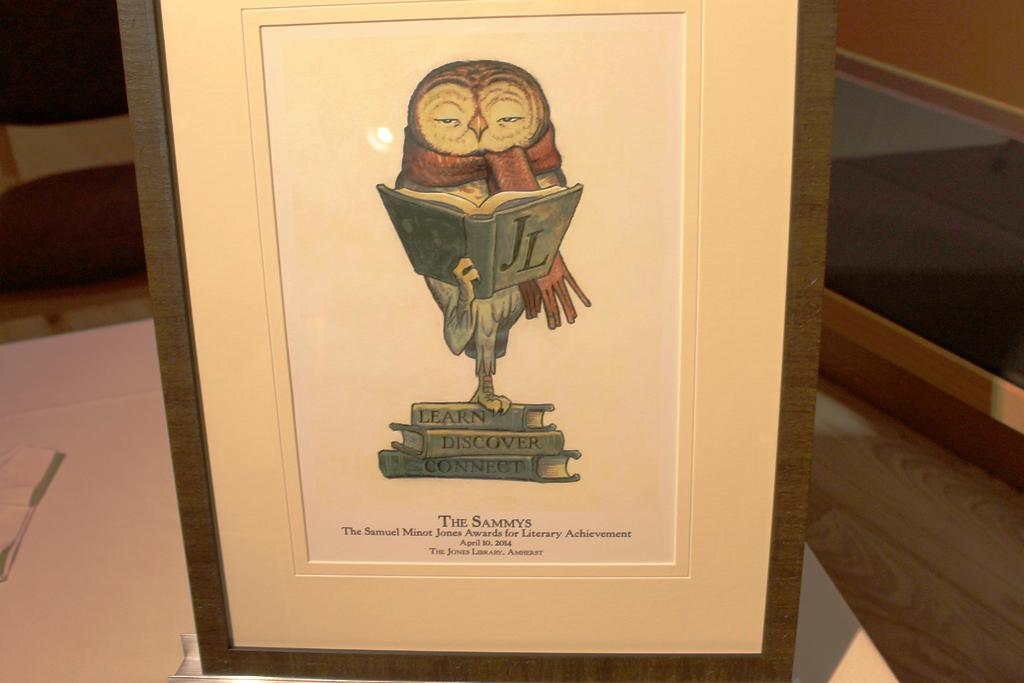Owl: (392, 59, 568, 415)
